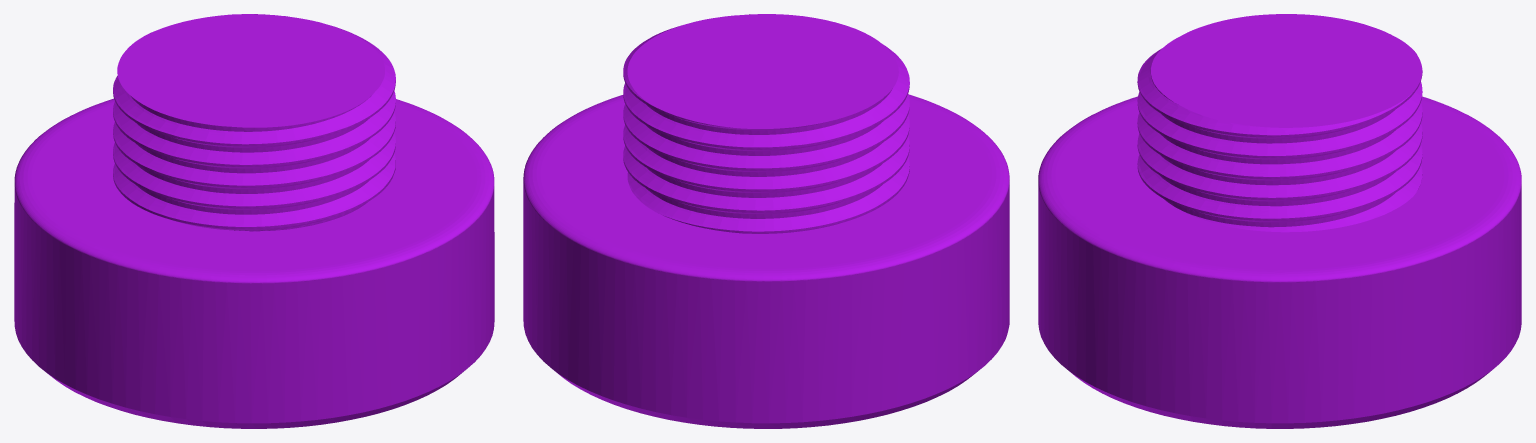
The model's file is socle_produit_03.glb.
The picture shows the model from 3 angles, left to right: view 1: azimuth 30°, elevation 25°; view 2: azimuth 150°, elevation 25°; view 3: azimuth 270°, elevation 25°; orthographic projection.
Parts seen in each view (by area): view 1: bouteille prototype V3 base; view 2: bouteille prototype V3 base; view 3: bouteille prototype V3 base.
Boxes of the visible parts, x1,y1,x2,y2 form: bouteille prototype V3 base: (14,14,494,428); bouteille prototype V3 base: (523,14,1009,428); bouteille prototype V3 base: (1038,14,1521,428).
Size of the model in its own units: 83.5 by 49.68 by 83.5.
